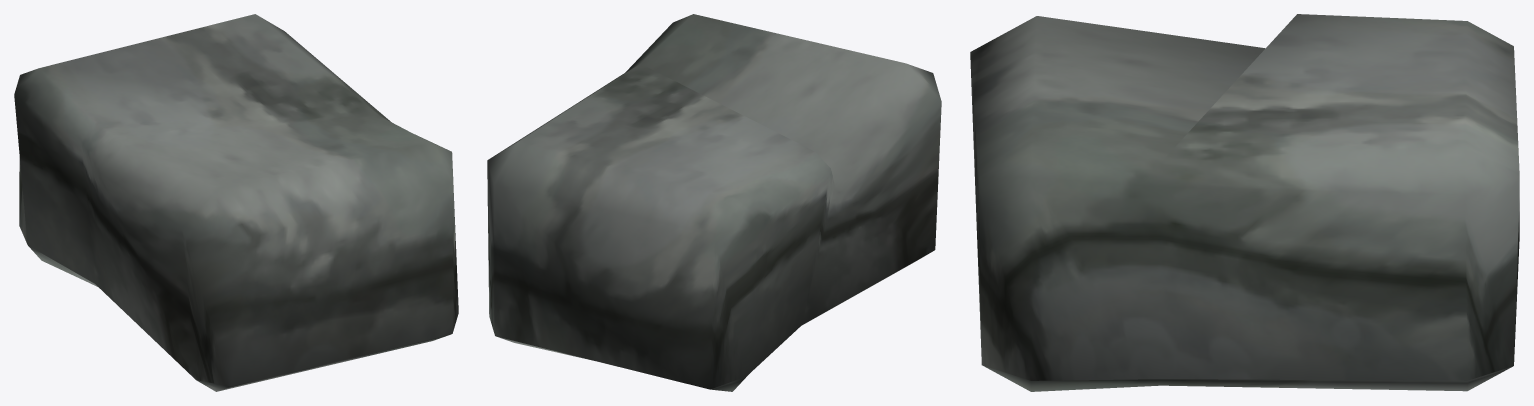
Rendered from sewer_brick002.FBX.
The picture shows the model from 3 angles, left to right: view 1: azimuth 30°, elevation 25°; view 2: azimuth 150°, elevation 25°; view 3: azimuth 270°, elevation 25°; orthographic projection. The views are drawn at different scales.
Visible parts, largest first — view 1: sewer_brick002; view 2: sewer_brick002; view 3: sewer_brick002.
Boxes of the visible parts, bbox=[...] form: sewer_brick002: bbox=[14, 14, 458, 391]; sewer_brick002: bbox=[487, 14, 941, 391]; sewer_brick002: bbox=[970, 14, 1519, 391].
Size of the model in its own units: 109 by 74.49 by 149.
